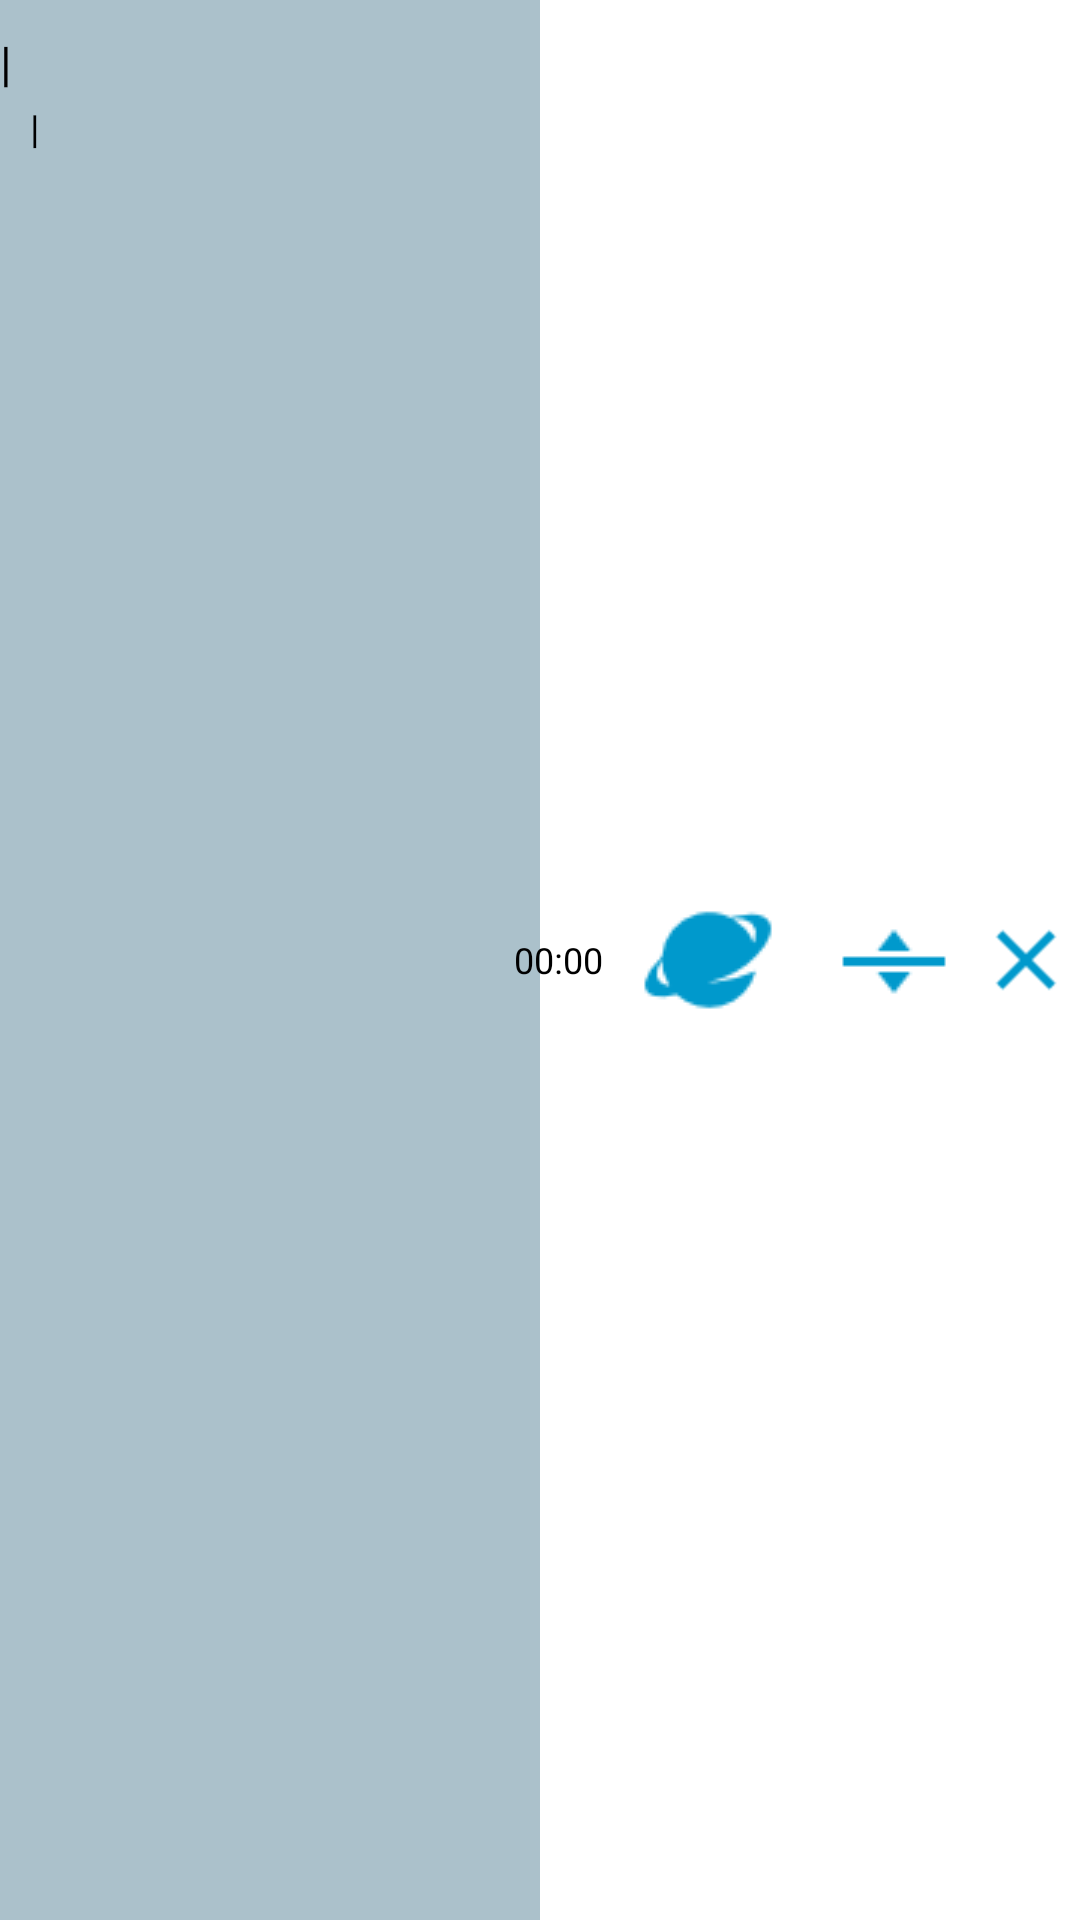

Locate icon controls on the screen. Image size 1080x1920, boxes as (x1, y1, x2, y2).
cancel: (996, 930, 1056, 990)
drag: (842, 929, 946, 994)
